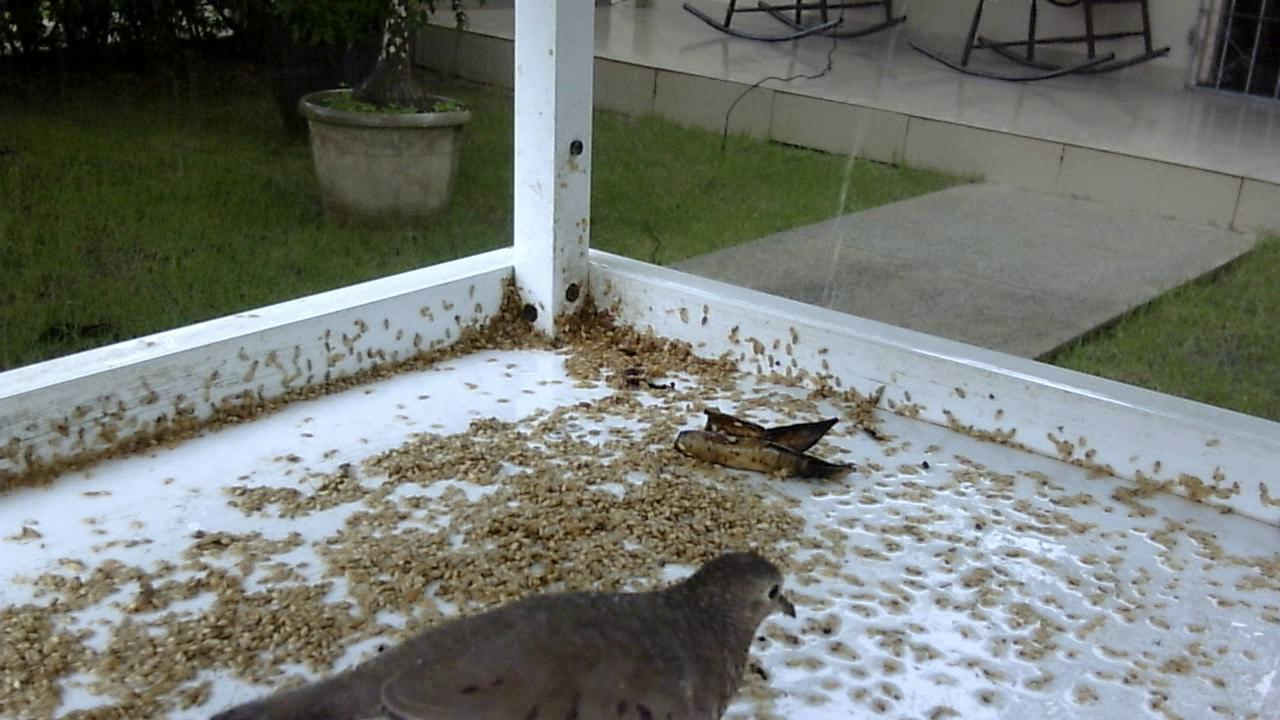rolinha: (201, 549, 813, 720)
